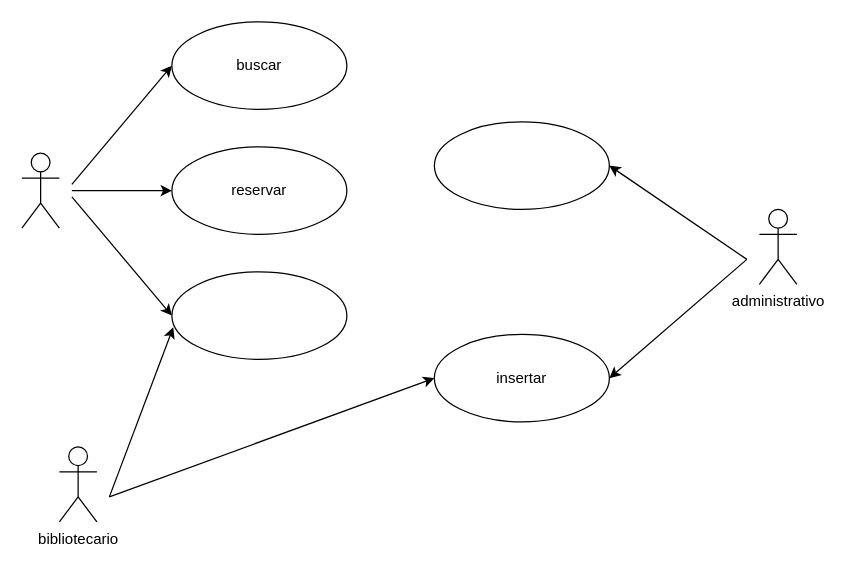
This 846x570 diagram has some shape labels left out. The shapes that lost their labels are listed below. From the top down, each one's box as (x1, y1, x2, y2) in pixels, then its label:
(433, 121, 609, 209): baja
(21, 152, 59, 228): lector
(171, 271, 347, 359): anular
